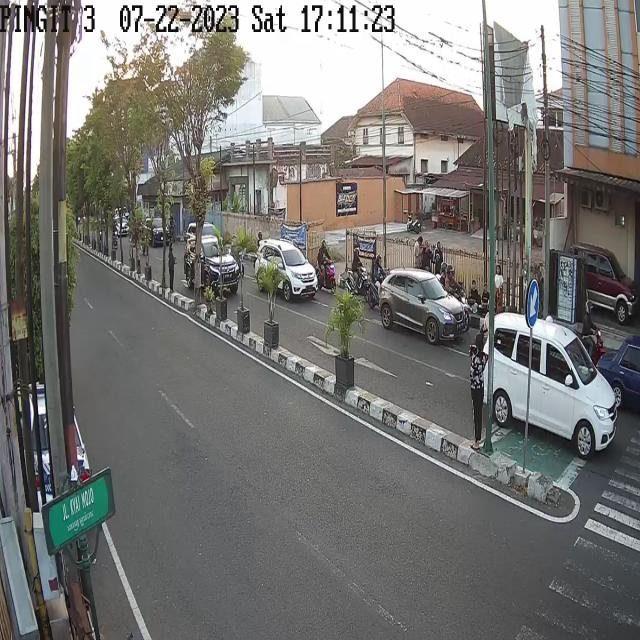car: (478, 315, 623, 460), (378, 270, 472, 345), (570, 245, 638, 327), (256, 240, 318, 300), (597, 334, 640, 416), (184, 237, 239, 300), (184, 220, 225, 248), (144, 216, 172, 247), (114, 214, 132, 238)
motorcycle: (441, 261, 468, 332), (366, 250, 386, 308), (315, 237, 336, 290), (346, 248, 366, 294), (230, 234, 246, 278)
